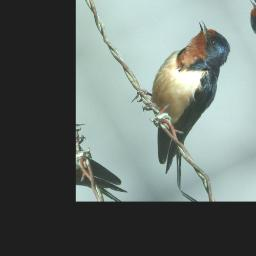Swallow: (106, 14, 256, 192)
